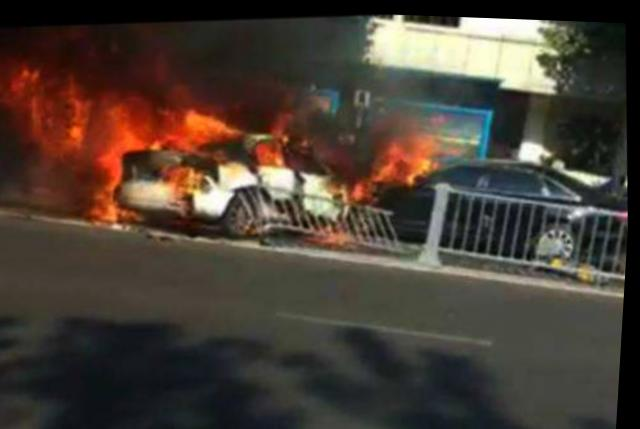fire: (7, 39, 337, 254), (349, 121, 448, 200)
